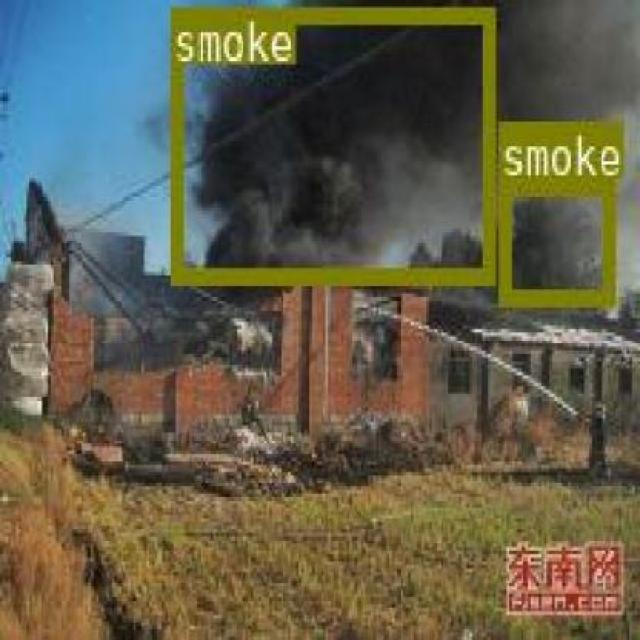Smoke: (168, 6, 492, 280), (498, 175, 612, 302), (509, 10, 628, 107)
